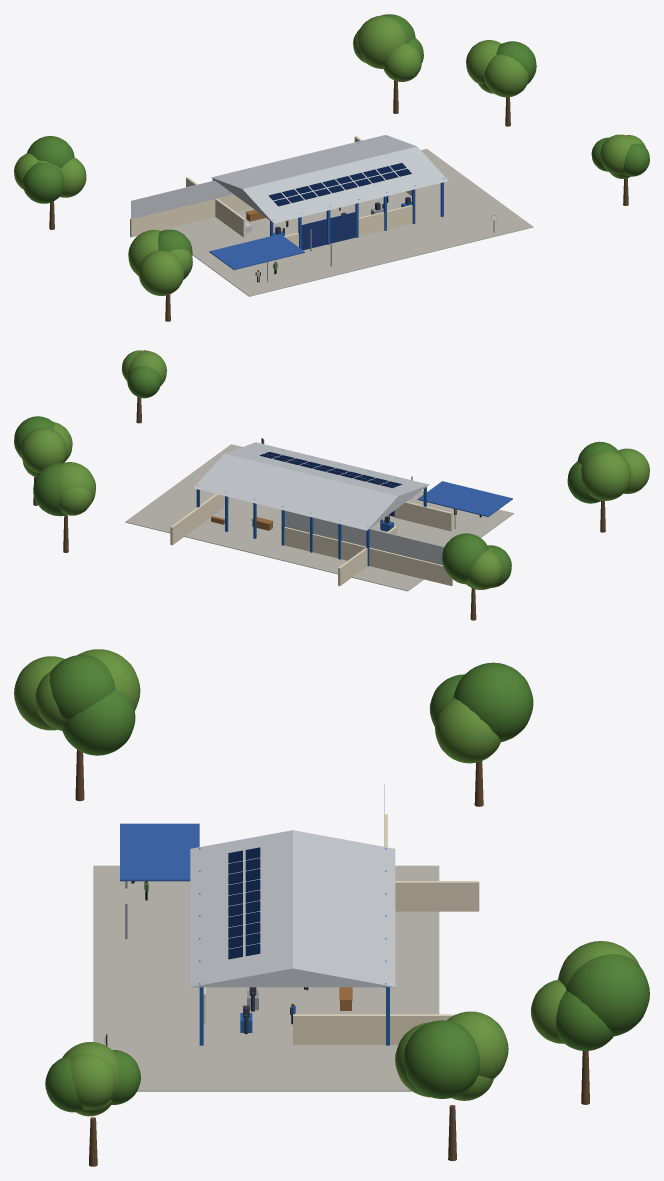
File: Base_appui_artisanat.glb
The picture shows the model from 3 angles, top to bottom: view 1: azimuth 30°, elevation 25°; view 2: azimuth 150°, elevation 25°; view 3: azimuth 270°, elevation 25°; orthographic projection. The views are drawn at different scales.
Size of what is drawn, in the model's own units: 72.35 by 12.55 by 47.79.
